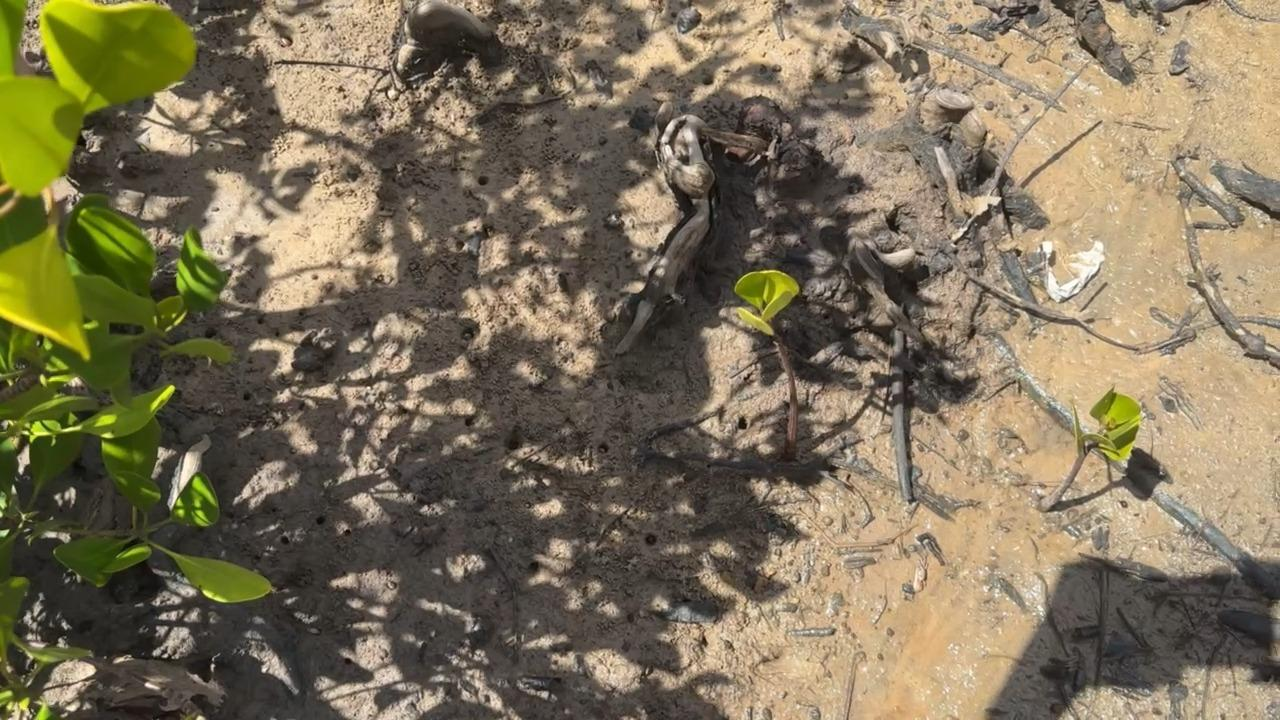Tree: (1037, 386, 1141, 511), (734, 268, 800, 456)
